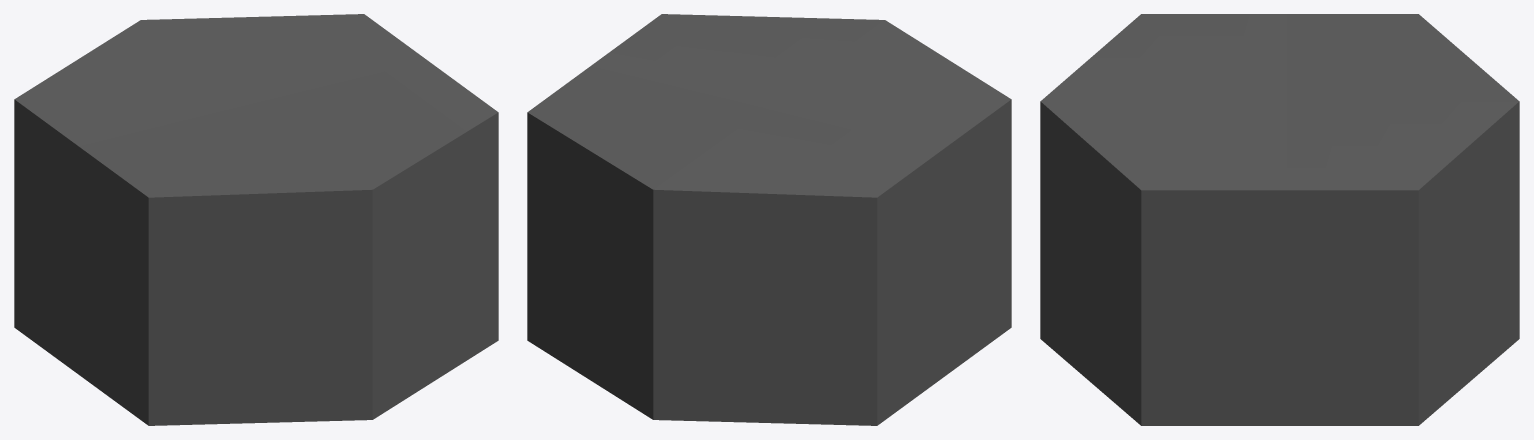
Rendered from tile_city_3.gltf.
The picture shows the model from 3 angles, left to right: view 1: azimuth 30°, elevation 25°; view 2: azimuth 150°, elevation 25°; view 3: azimuth 270°, elevation 25°; orthographic projection. The views are drawn at different scales.
Parts seen in each view (by area): view 1: toche_3; view 2: toche_3; view 3: toche_3.
Part boxes in pixels (<box>): toche_3: <box>14,14,498,425</box>; toche_3: <box>527,14,1011,425</box>; toche_3: <box>1040,14,1519,425</box>.
Bounding box in the file's own units: 1.6 × 1.01 × 1.84.
Materials: 1 (1 with a texture image).
